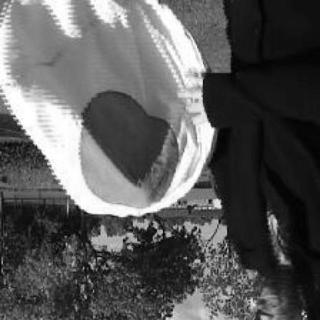other: (58, 89, 180, 217)
